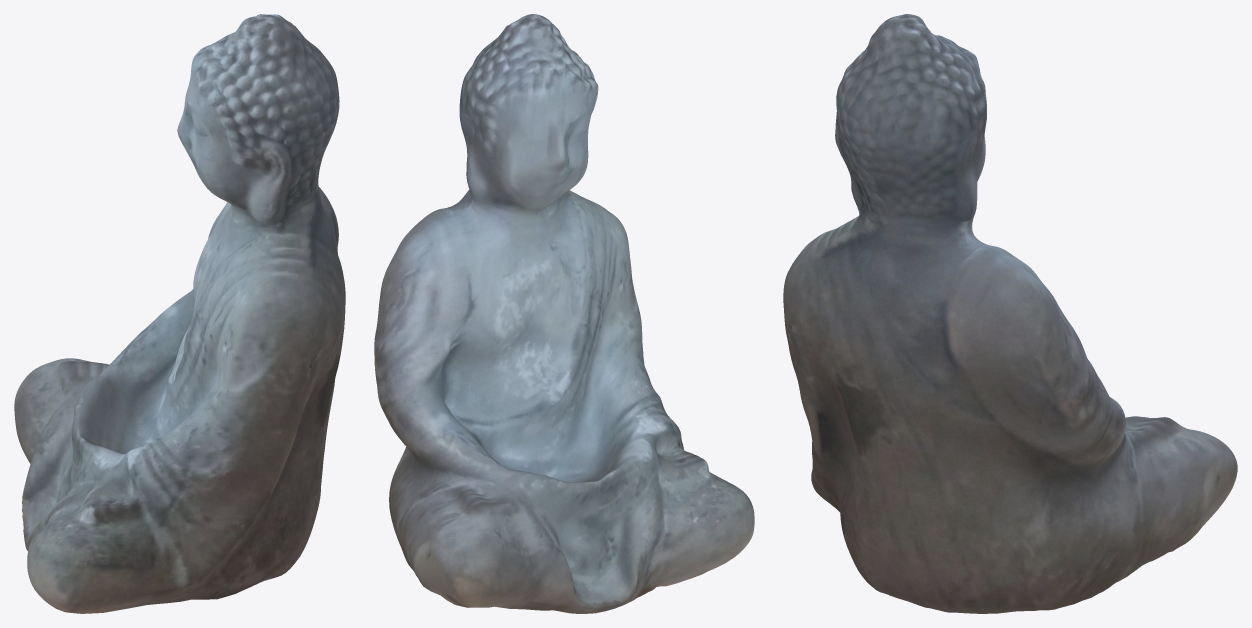
File: small_buddha_statue.glb
3 views of the same model, side by side, from view 1: azimuth 30°, elevation 25°; view 2: azimuth 150°, elevation 25°; view 3: azimuth 270°, elevation 25° (orthographic). The views are drawn at different scales.
Parts seen in each view (by area): view 1: meshes[0]; view 2: meshes[0]; view 3: meshes[0].
Boxes of the visible parts, bbox=[...] form: meshes[0]: bbox=[14, 14, 345, 613]; meshes[0]: bbox=[374, 14, 754, 613]; meshes[0]: bbox=[783, 14, 1237, 613].
Bounding box in the file's own units: 0.00348 × 0.00557 × 0.00392.
Materials: 1 (1 with a texture image).
